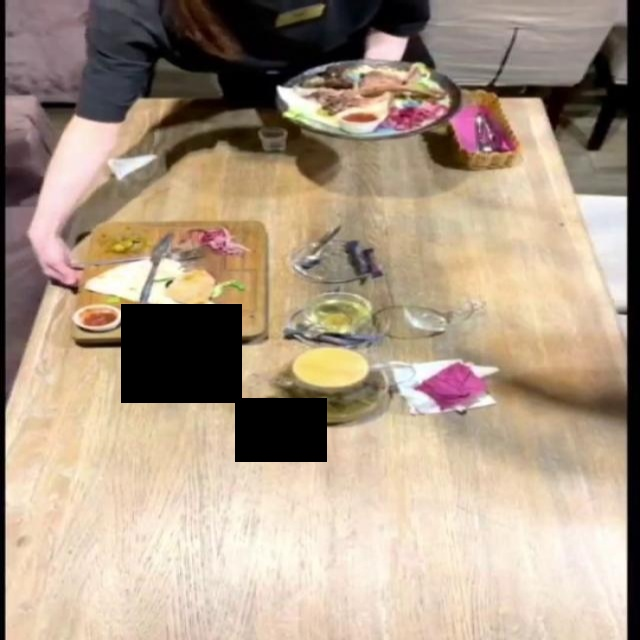meat: (69, 212, 277, 349), (284, 61, 451, 135)
tea: (264, 347, 419, 418)
